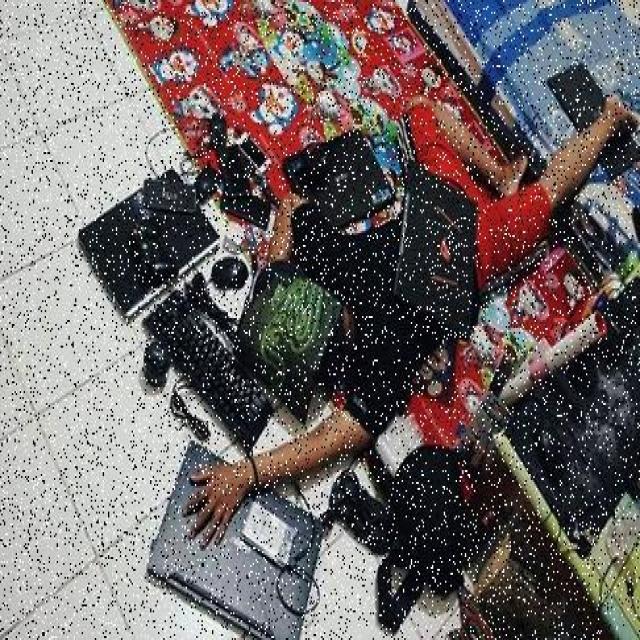fall: (210, 91, 628, 506)
